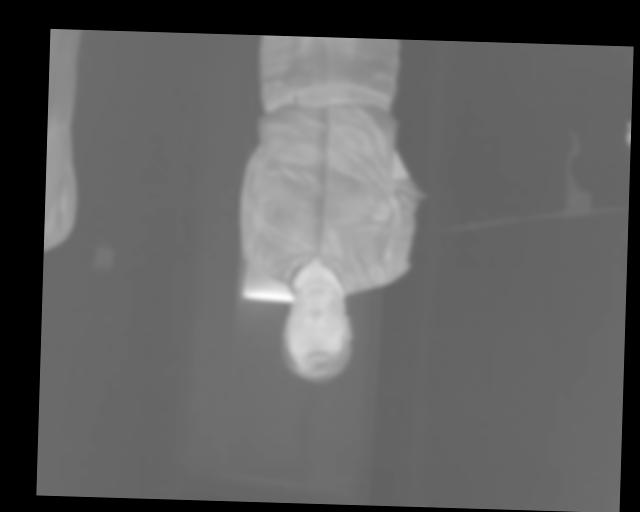face: (279, 278, 356, 384)
